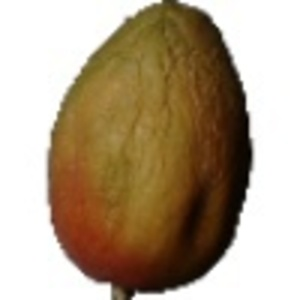mamão: (30, 4, 255, 292)
